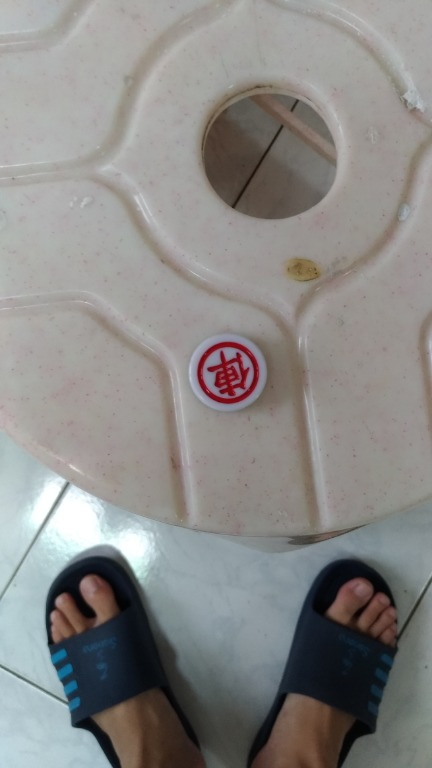r-rook: (179, 330, 282, 419)
